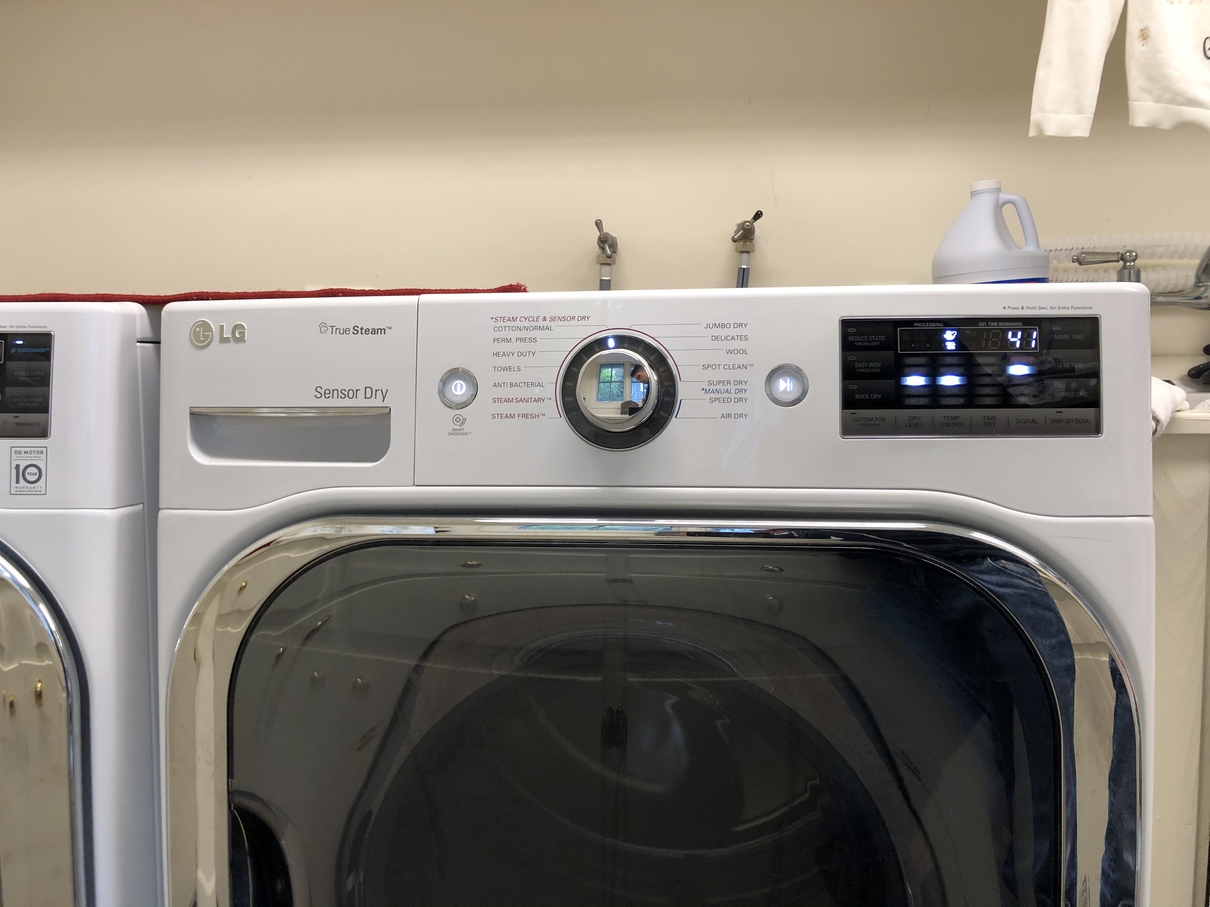status: (892, 314, 1042, 360)
